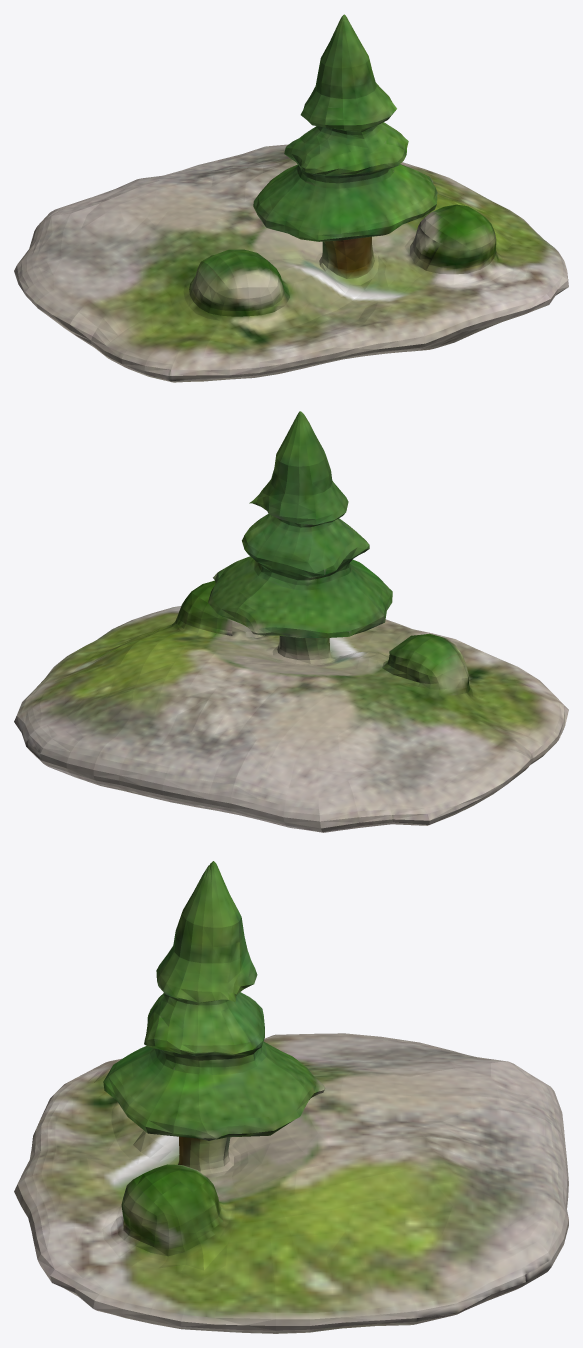
Rendered from tree4.glb.
3 renders of one model, top to bottom at view 1: azimuth 30°, elevation 25°; view 2: azimuth 150°, elevation 25°; view 3: azimuth 270°, elevation 25°, orthographic. The views are drawn at different scales.
Visible parts, largest first — view 1: geometry_0; view 2: geometry_0; view 3: geometry_0.
Part boxes in pixels (x1,y1,x2,y2): geometry_0: [14, 14, 568, 382]; geometry_0: [14, 411, 568, 832]; geometry_0: [14, 861, 568, 1333].
Size of the model in its own units: 0.6493 by 0.41 by 0.5529.
1 material, 1 textured.
